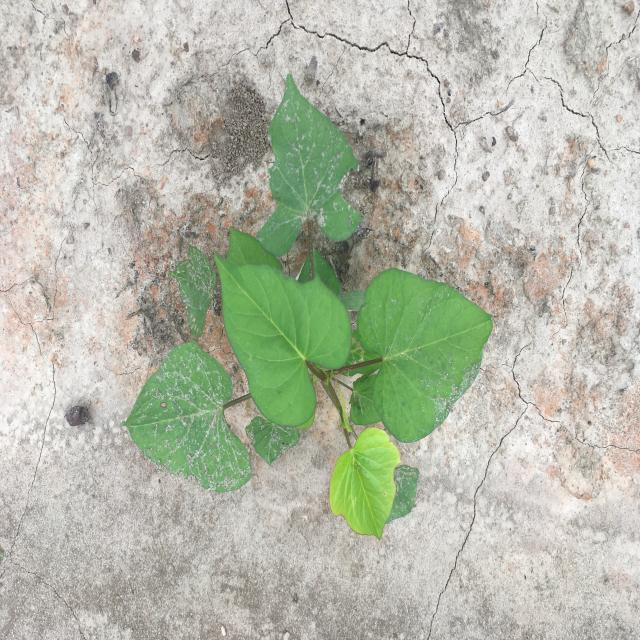MorningGlory: (122, 73, 494, 540)
